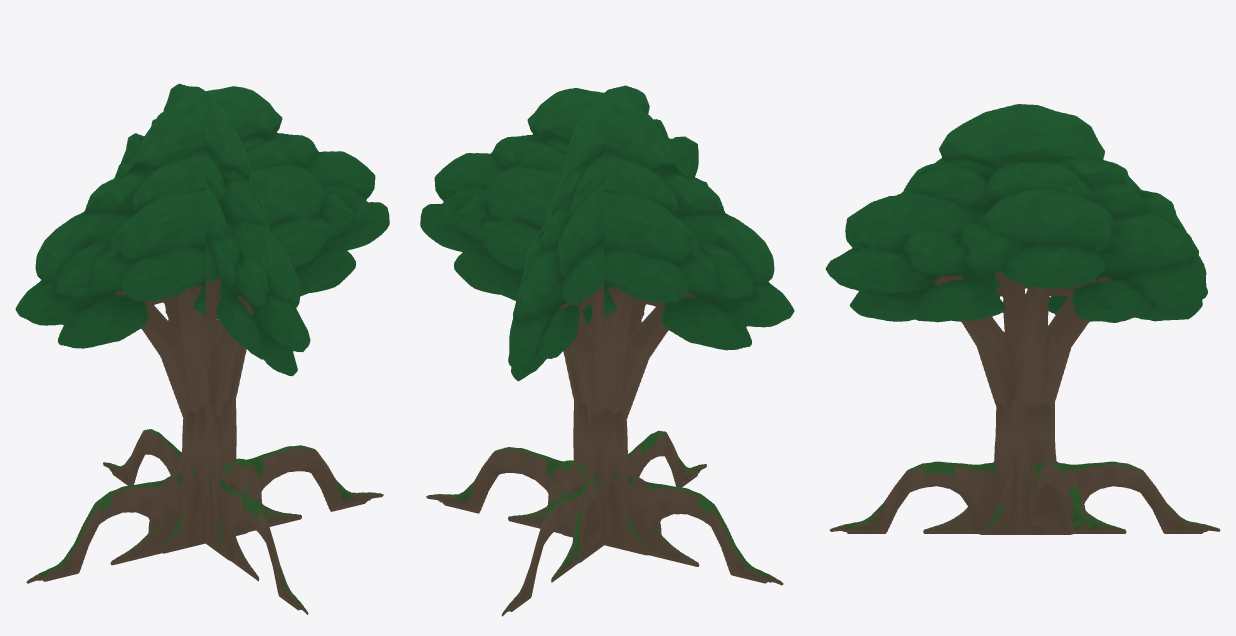
The model's file is tree_ancient_far.glb.
3 views of the same model, side by side, from view 1: azimuth 30°, elevation 25°; view 2: azimuth 150°, elevation 25°; view 3: azimuth 270°, elevation 25° (orthographic). The views are drawn at different scales.
Size of the model in its own units: 35.54 by 41 by 34.13.
1 material, 1 textured.
